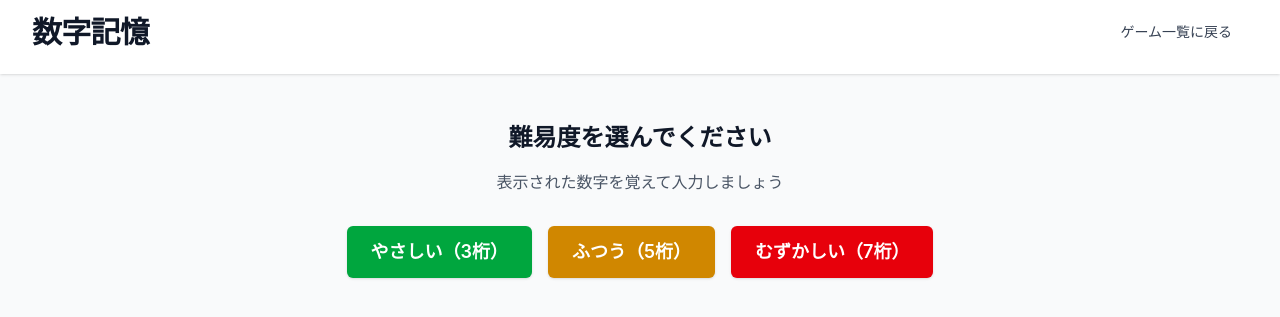
Test: NumberMemoryGame › should show number display when in memorizing state
This screenshot has width=1280, height=317.
What coordinates should you click on to do the following:
click the button "やさしい（3桁）"
I would click on:
 (439, 252)
Its box is 347,226 -> 532,278.
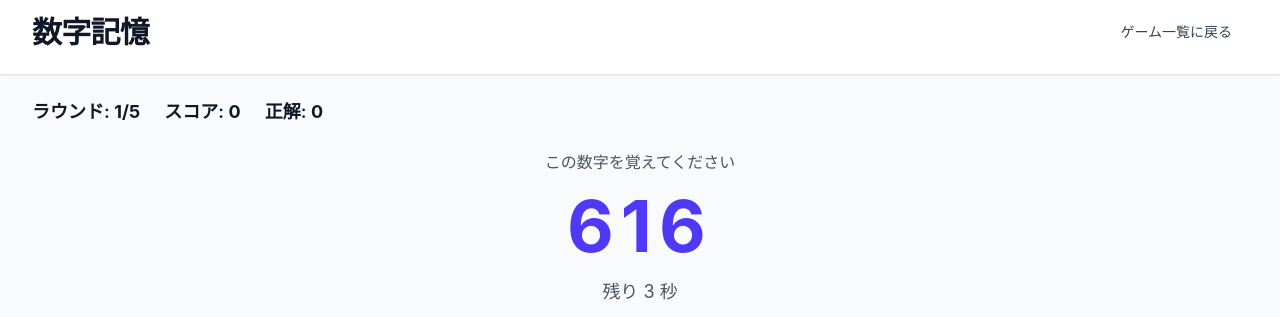
Expected: the text "この数字を覚えてください" is shown, 545,150 -> 735,174
